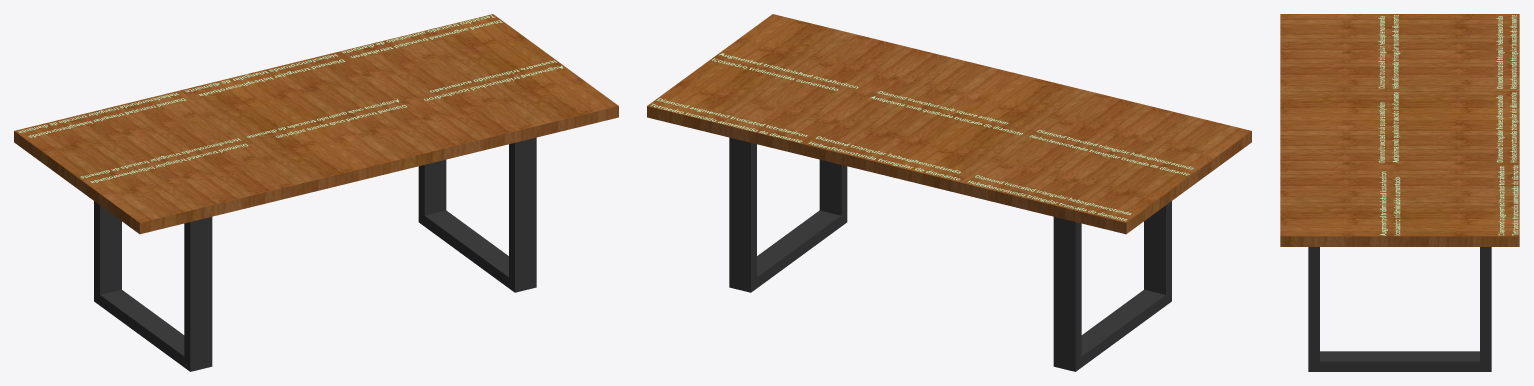
The model's file is diamonds4.glb.
The picture shows the model from 3 angles, left to right: view 1: azimuth 30°, elevation 25°; view 2: azimuth 150°, elevation 25°; view 3: azimuth 270°, elevation 25°; orthographic projection. The views are drawn at different scales.
Visible parts, largest first — view 1: object 1, Composant#1 (×2), Diamond truncate#1 (×2), Diamond triangul, Diamond augmente, Diamond truncate, Augmented tridim; view 2: object 1, Composant#1 (×2), Diamond truncate#1 (×2), Diamond augmente, Diamond triangul, Diamond truncate, Augmented tridim; view 3: object 1, Composant#1, Diamond truncate#1 (×2), Diamond triangul, Diamond augmente, Diamond truncate, Augmented tridim.
Part boxes in pixels (x1,y1,x2,y2): object 1: [14, 14, 618, 234]; Composant#1 (×2): [94, 137, 536, 371]; Diamond truncate#1 (×2): [18, 93, 248, 182]; Diamond triangul: [185, 54, 344, 95]; Diamond augmente: [341, 15, 502, 57]; Diamond truncate: [247, 99, 406, 137]; Augmented tridim: [424, 60, 562, 100]; object 1: [647, 14, 1251, 234]; Composant#1 (×2): [729, 137, 1171, 371]; Diamond truncate#1 (×2): [967, 129, 1193, 221]; Diamond augmente: [650, 98, 807, 142]; Diamond triangul: [808, 136, 960, 180]; Diamond truncate: [870, 91, 1022, 134]; Augmented tridim: [712, 53, 858, 90]; object 1: [1280, 14, 1519, 246]; Composant#1: [1308, 247, 1491, 371]; Diamond truncate#1 (×2): [1378, 15, 1518, 88]; Diamond triangul: [1496, 92, 1518, 162]; Diamond augmente: [1498, 165, 1518, 235]; Diamond truncate: [1378, 92, 1399, 162]; Augmented tridim: [1380, 171, 1400, 235].
Size of the model in its own units: 2.2 by 0.771 by 1.
3 materials, 1 textured.
